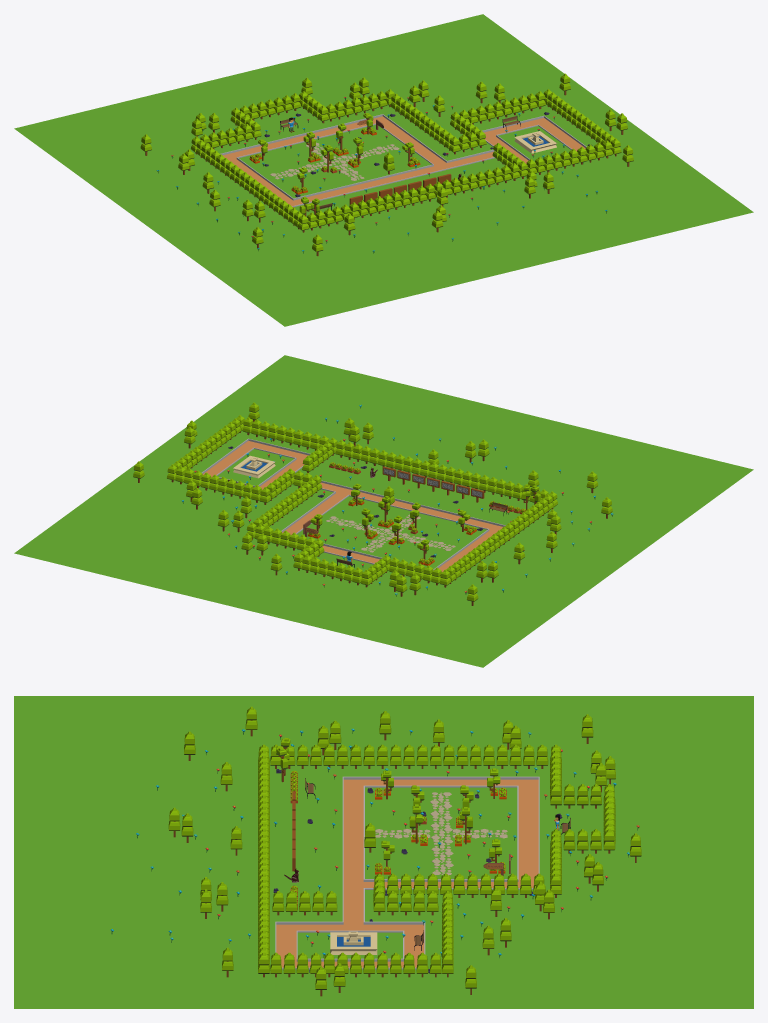
The model's file is first5jsprojectBeforeExport.glb.
3 renders of one model, top to bottom at view 1: azimuth 30°, elevation 25°; view 2: azimuth 150°, elevation 25°; view 3: azimuth 270°, elevation 25°, orthographic. The views are drawn at different scales.
Visible parts, largest first — view 1: Level, fountain.001; view 2: Level, fountain.001; view 3: Level, fountain.001.
Part boxes in pixels (x1=…): Level: x1=14, y1=14, x2=753, y2=326; fountain.001: x1=514, y1=131, x2=556, y2=153; Level: x1=14, y1=355, x2=753, y2=667; fountain.001: x1=233, y1=455, x2=275, y2=478; Level: x1=14, y1=696, x2=753, y2=1008; fountain.001: x1=330, y1=931, x2=377, y2=954.
Size of what is drawn, in the model's own units: 160 by 9.16 by 160.
36 materials, 1 textured.
